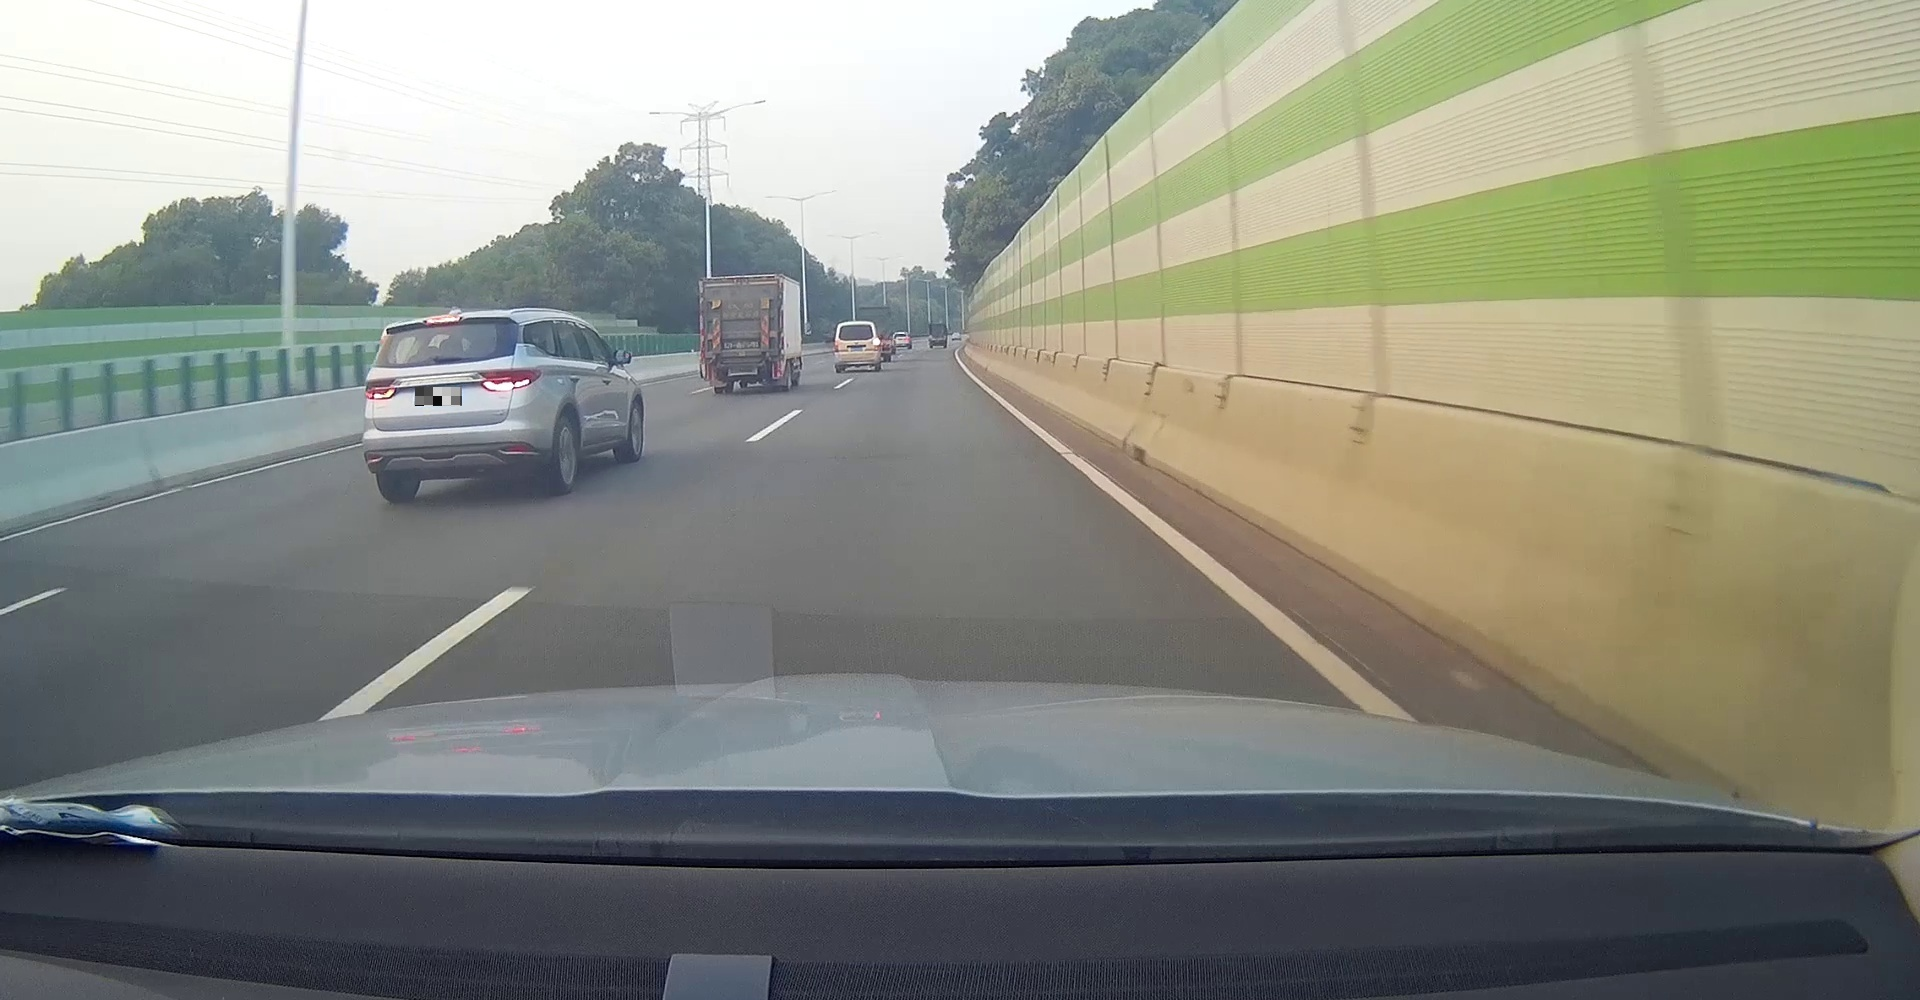L_light: (364, 378, 403, 401), (703, 360, 716, 381), (834, 341, 841, 353)
R_light: (481, 371, 542, 391), (772, 360, 783, 379), (874, 338, 881, 349)
T_light: (425, 316, 460, 324), (733, 278, 749, 283), (853, 324, 862, 325)
day-brake: (362, 307, 543, 504)
day-no: (698, 274, 787, 393)
day-right: (833, 321, 881, 373)
plate_1: (415, 387, 462, 406)
